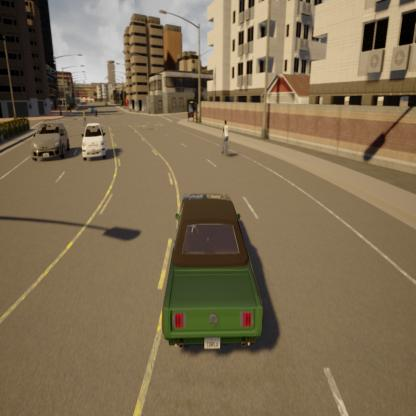Cars: (154, 170, 272, 370), (21, 110, 76, 174), (77, 112, 122, 169)
